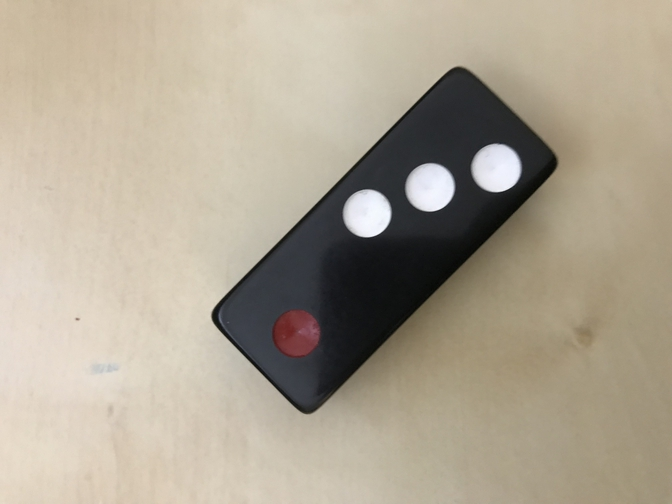goose: (212, 68, 559, 417)
